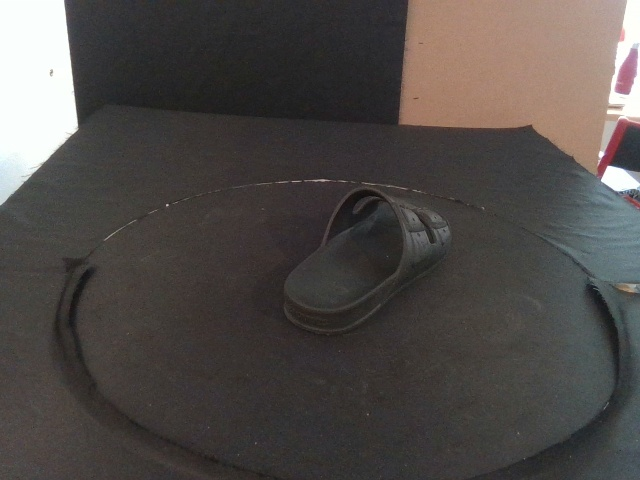shoe: (282, 186, 454, 338)
